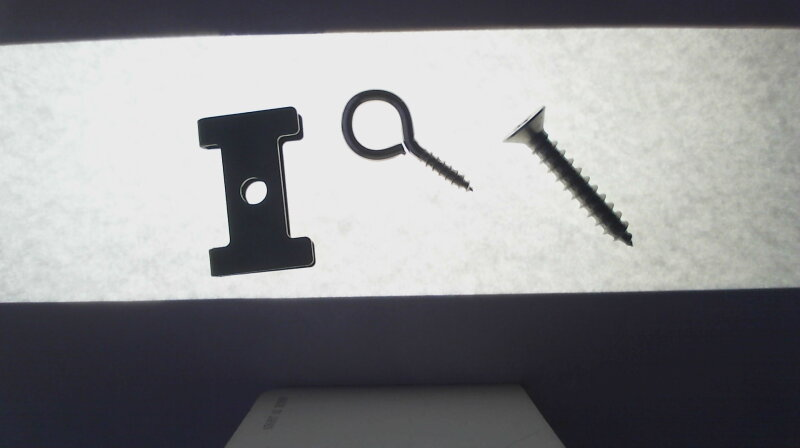O001: (340, 87, 475, 195)
O002: (192, 106, 317, 278)
S001: (504, 105, 635, 247)
